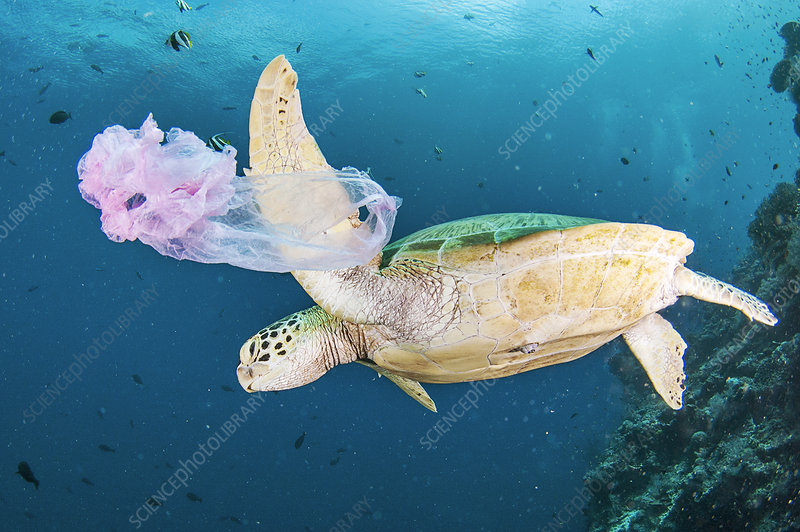plastic_bag: (70, 107, 407, 284)
